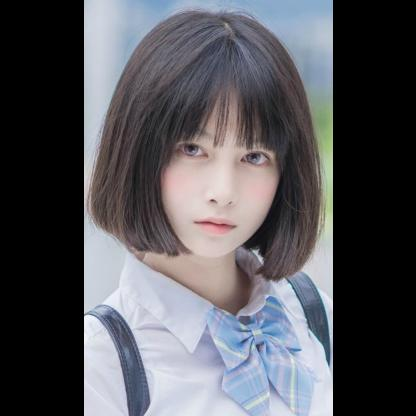Female: (160, 78, 280, 258)
